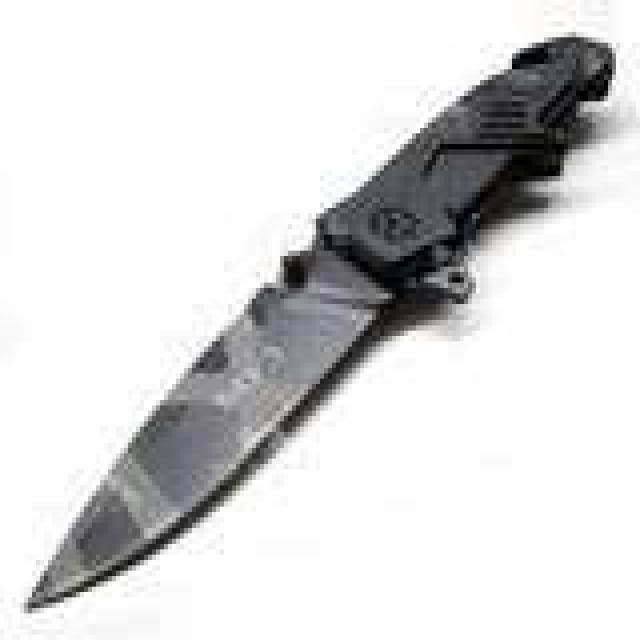Knife: (27, 26, 619, 613)
